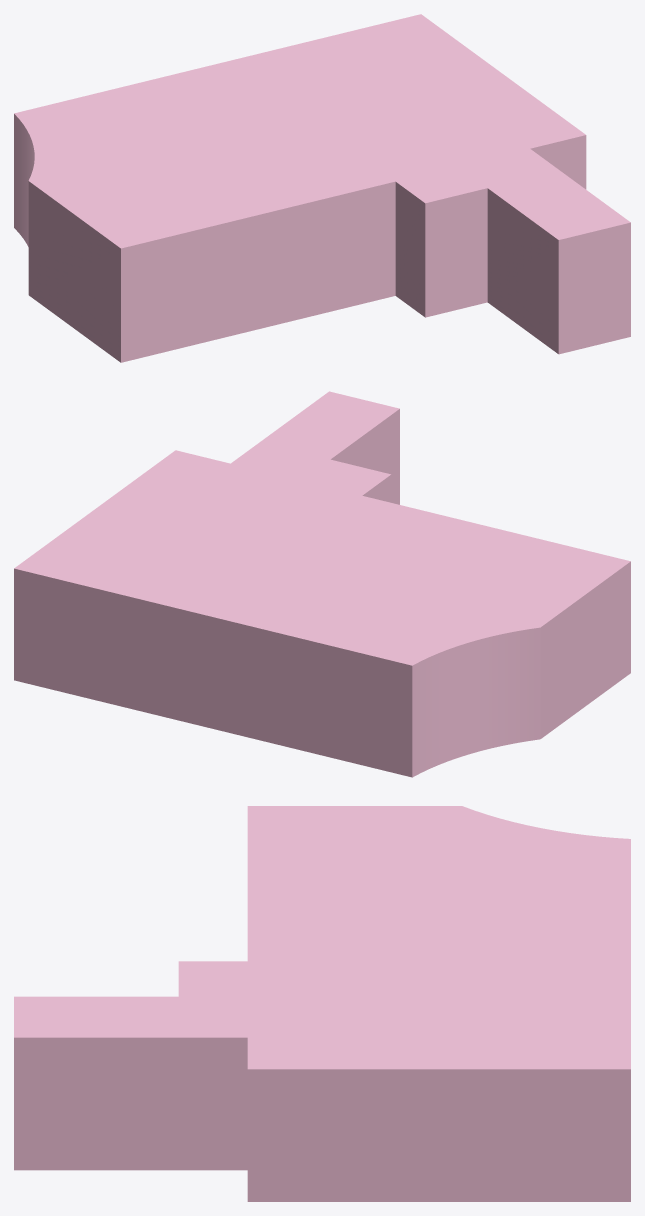
Rendered from JUSTCAVALLI.obj.
3 views of the same model, one above another, from view 1: azimuth 30°, elevation 25°; view 2: azimuth 150°, elevation 25°; view 3: azimuth 270°, elevation 25° (orthographic). The views are drawn at different scales.
Visible parts, largest first — view 1: Mesh1 Model; view 2: Mesh1 Model; view 3: Mesh1 Model.
Boxes of the visible parts, box(x1,y1,x2,y2) form: Mesh1 Model: box(14, 14, 630, 362); Mesh1 Model: box(14, 391, 630, 777); Mesh1 Model: box(14, 806, 630, 1201).
Bounding box in the file's own units: 37.81 × 8.88 × 37.44.
